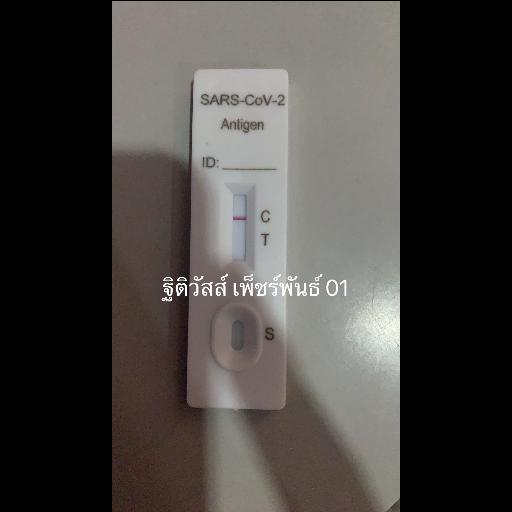Neg: (190, 66, 286, 410)
